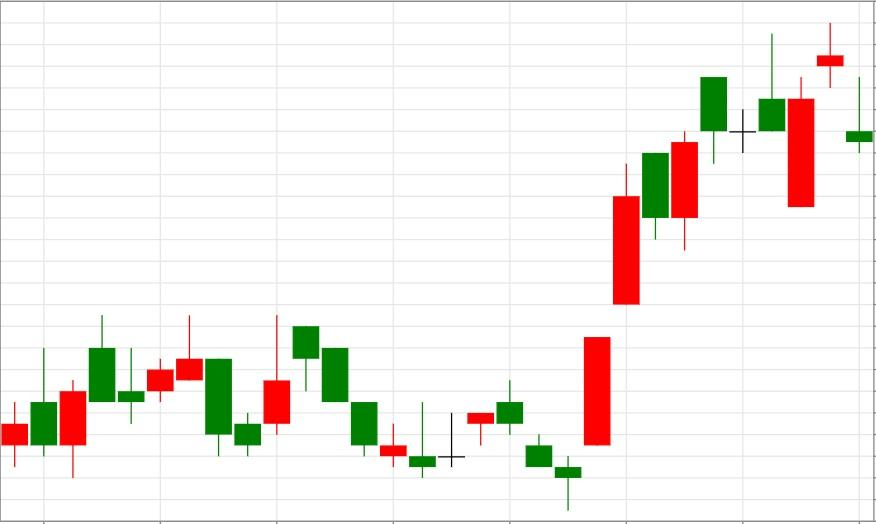shooting_star_fall: (117, 315, 204, 425)
